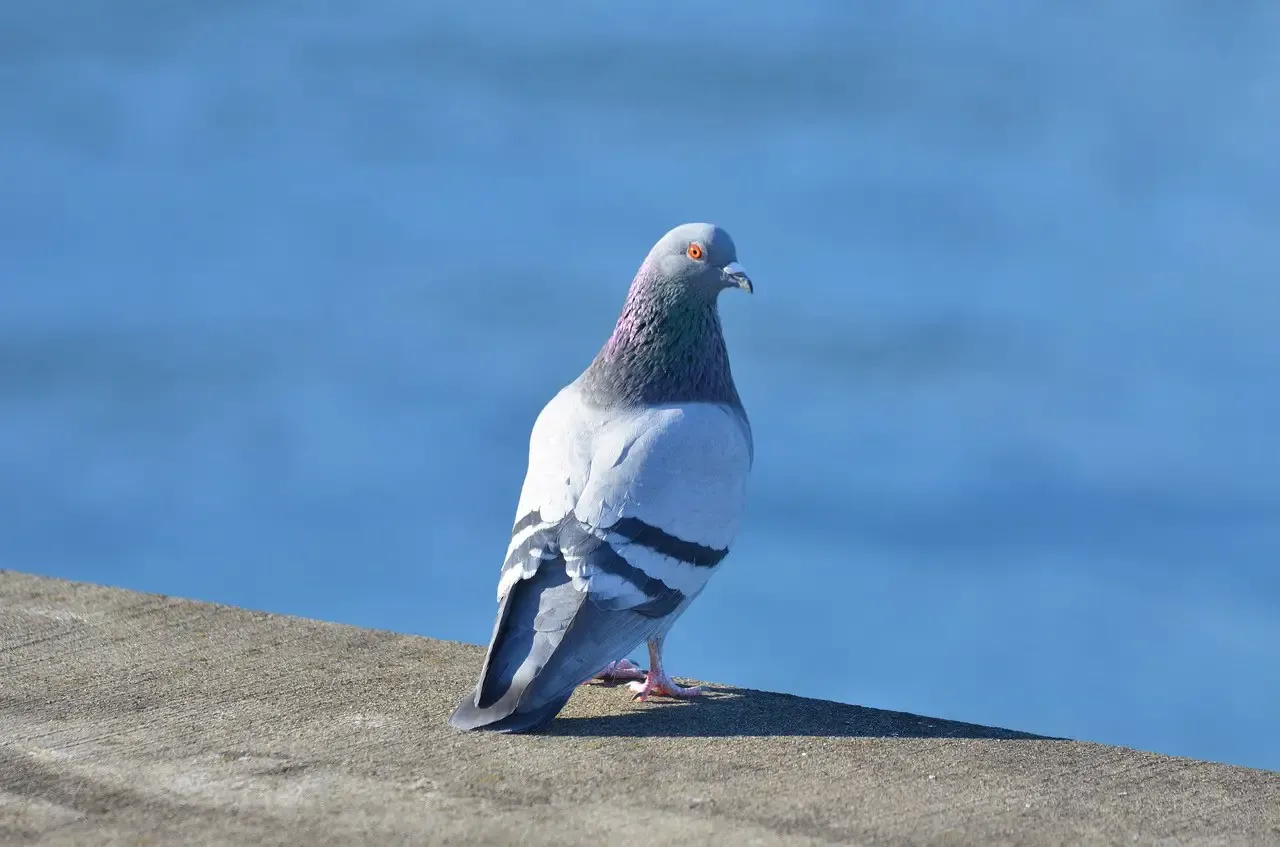Flying Rat: (437, 199, 784, 736)
